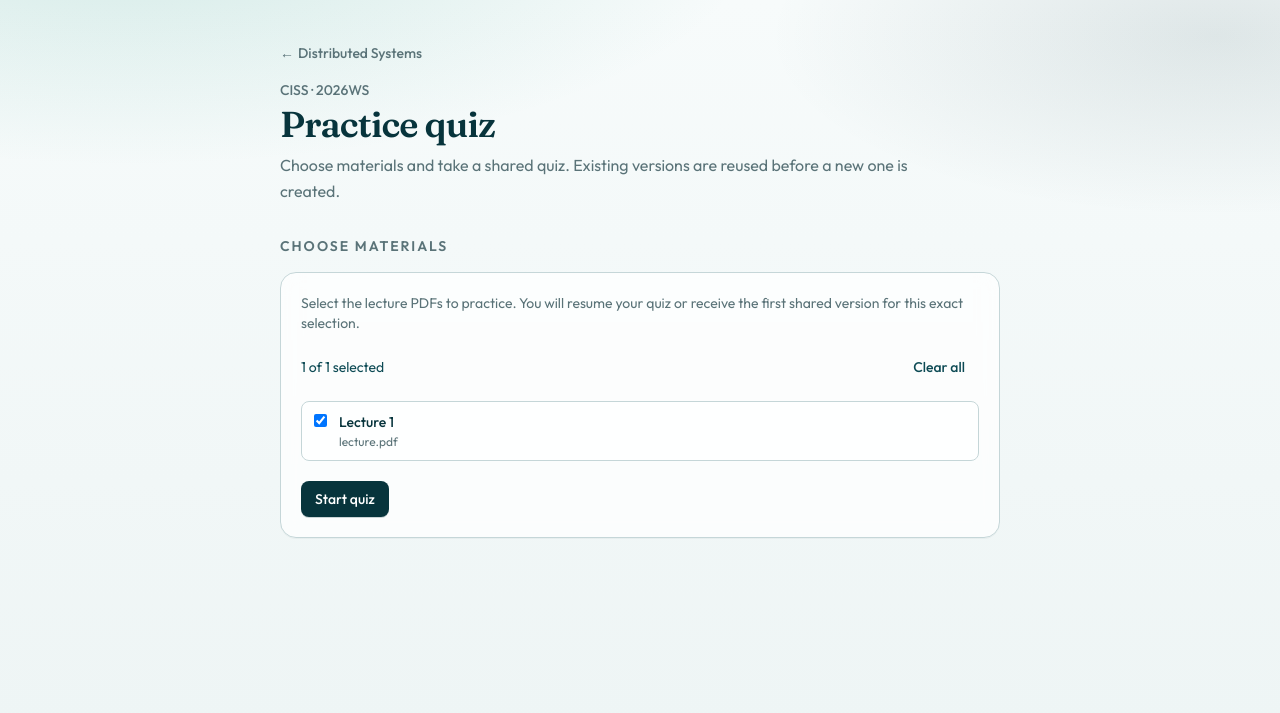
course quiz page › generates a quiz, answers, and shows the score
Check: the heading "Practice quiz" is shown, box [280, 102, 495, 146]
Check: the heading "Choose materials" is shown, box [280, 237, 448, 255]
Click the button "Start quiz".
click(345, 499)  # box [301, 481, 389, 517]
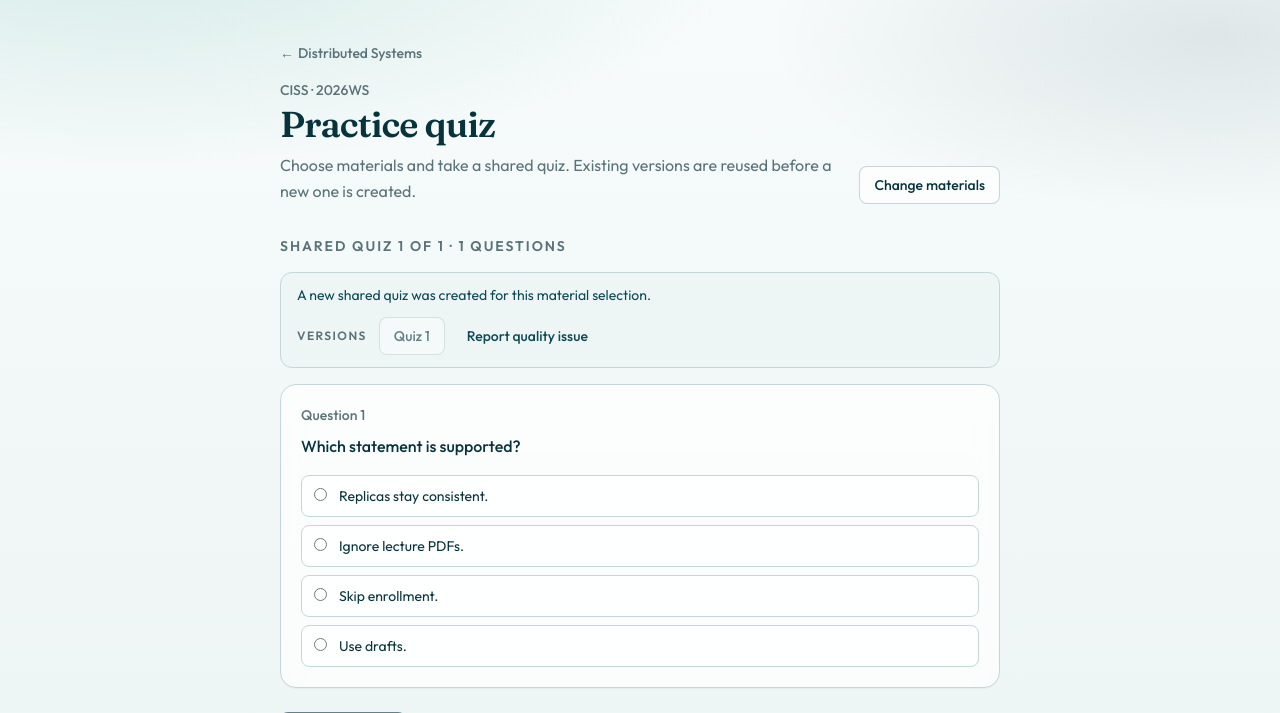
Check: the text "Which statement is supported?" is shown, box [301, 436, 521, 456]
Check: the text "A new shared quiz was created for this material selection." is shown, box [297, 286, 651, 304]
Check: the button "Quiz 1" is disabled, box [379, 317, 445, 355]
Click the radio button labelled "Replicas stay consistent.".
click(320, 494)  # box [314, 488, 327, 501]
(page scrolled)
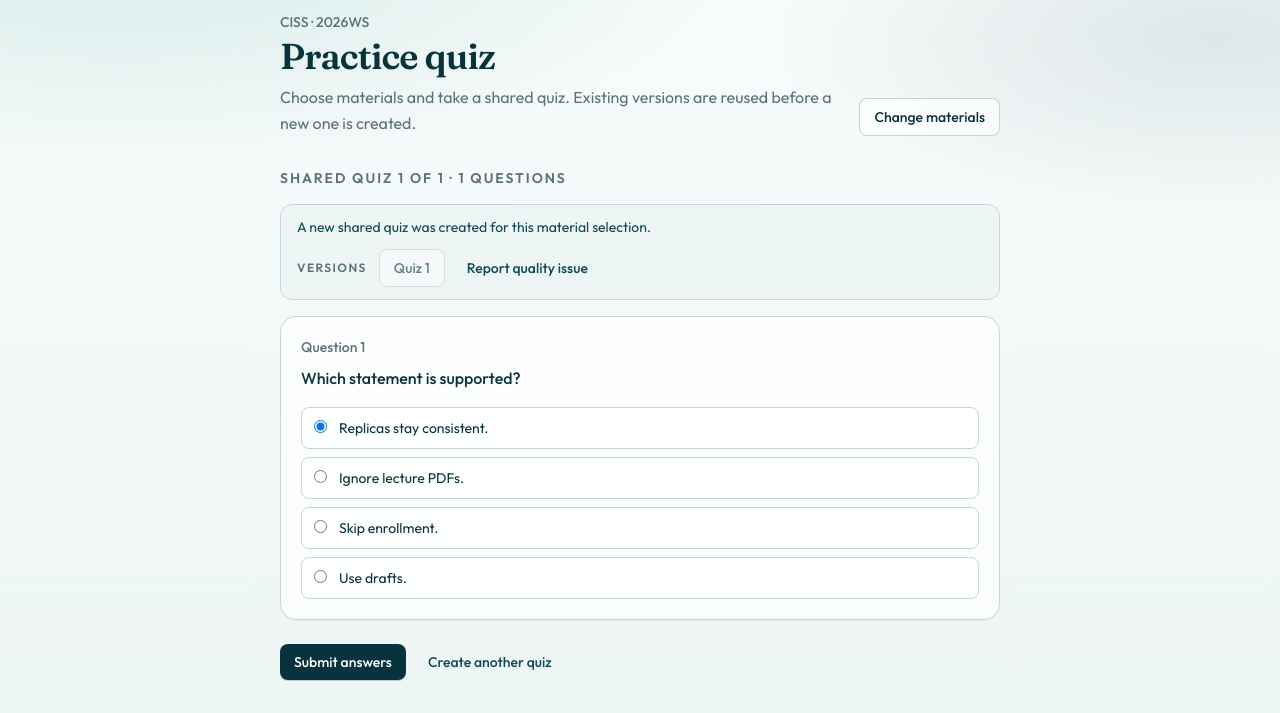
Click the button "Submit answers".
click(343, 662)  # box [280, 644, 406, 680]
(page scrolled)
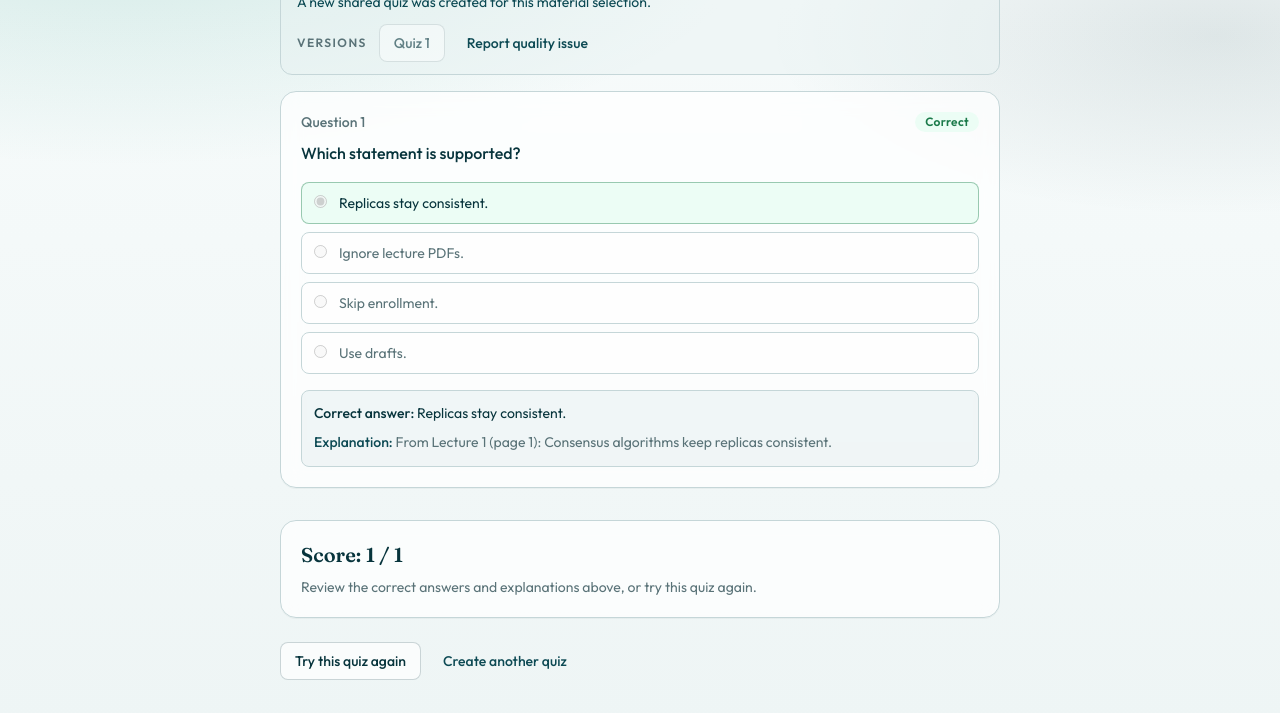
Check: the text "Score: 1 / 1" is shown, box [301, 542, 403, 567]
Check: the text "Correct answer: Replicas stay consistent." is shown, box [314, 404, 566, 422]
Check: the text "Explanation:" is shown, box [314, 433, 396, 451]
Click the button "Try this quiz again".
click(350, 661)  # box [280, 642, 421, 680]
(page scrolled)
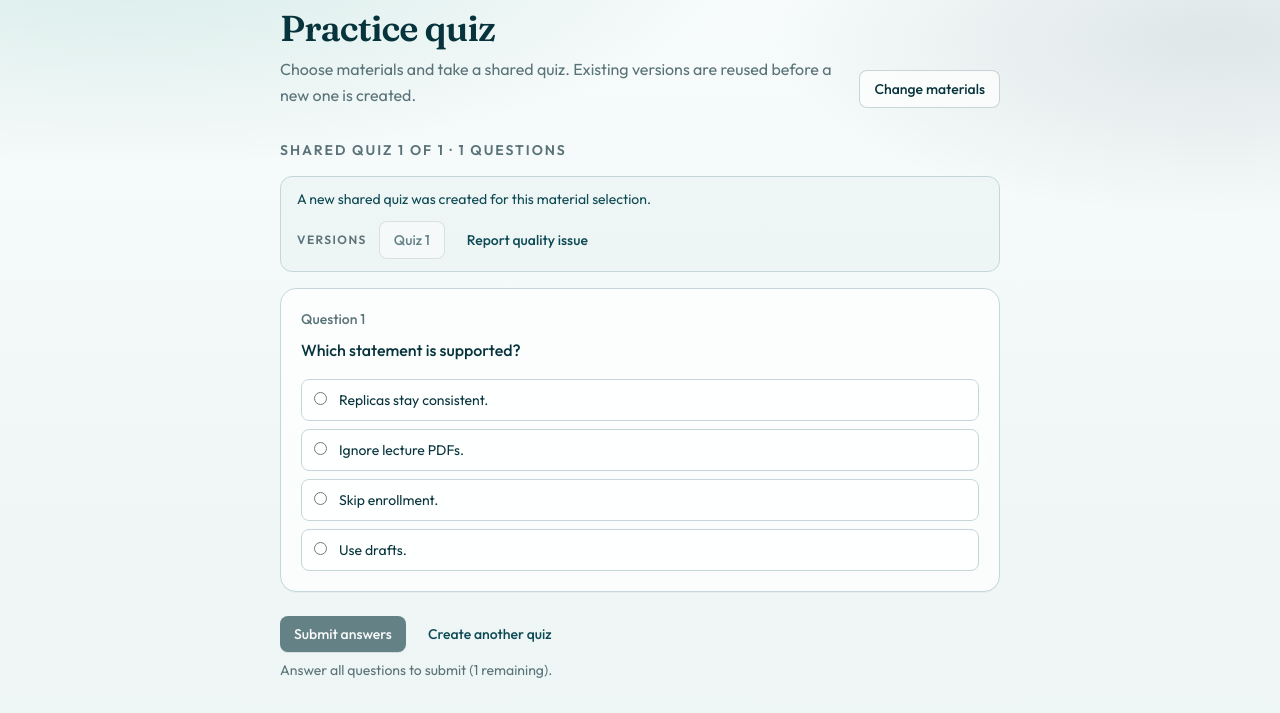
Check: the text "Score: 1 / 1" is gone
Check: the button "Submit answers" is disabled, box [280, 616, 406, 652]
